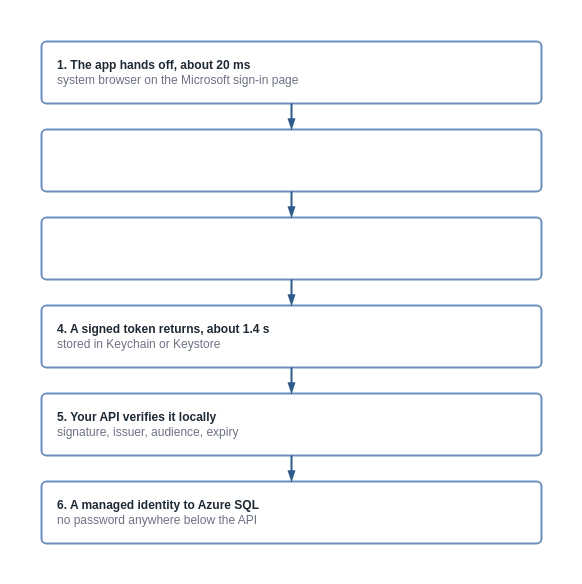
Some shapes in this 582 by 584 pixel diagram are drawn without their labels. Here are the shapes that lost their labels. From the top down, the box of each, then its label:
(40, 128, 542, 192): 2. The password stops at Entra ID it never reaches your API or database
(40, 216, 542, 280): 3. MFA, the slow step the person, not the system
